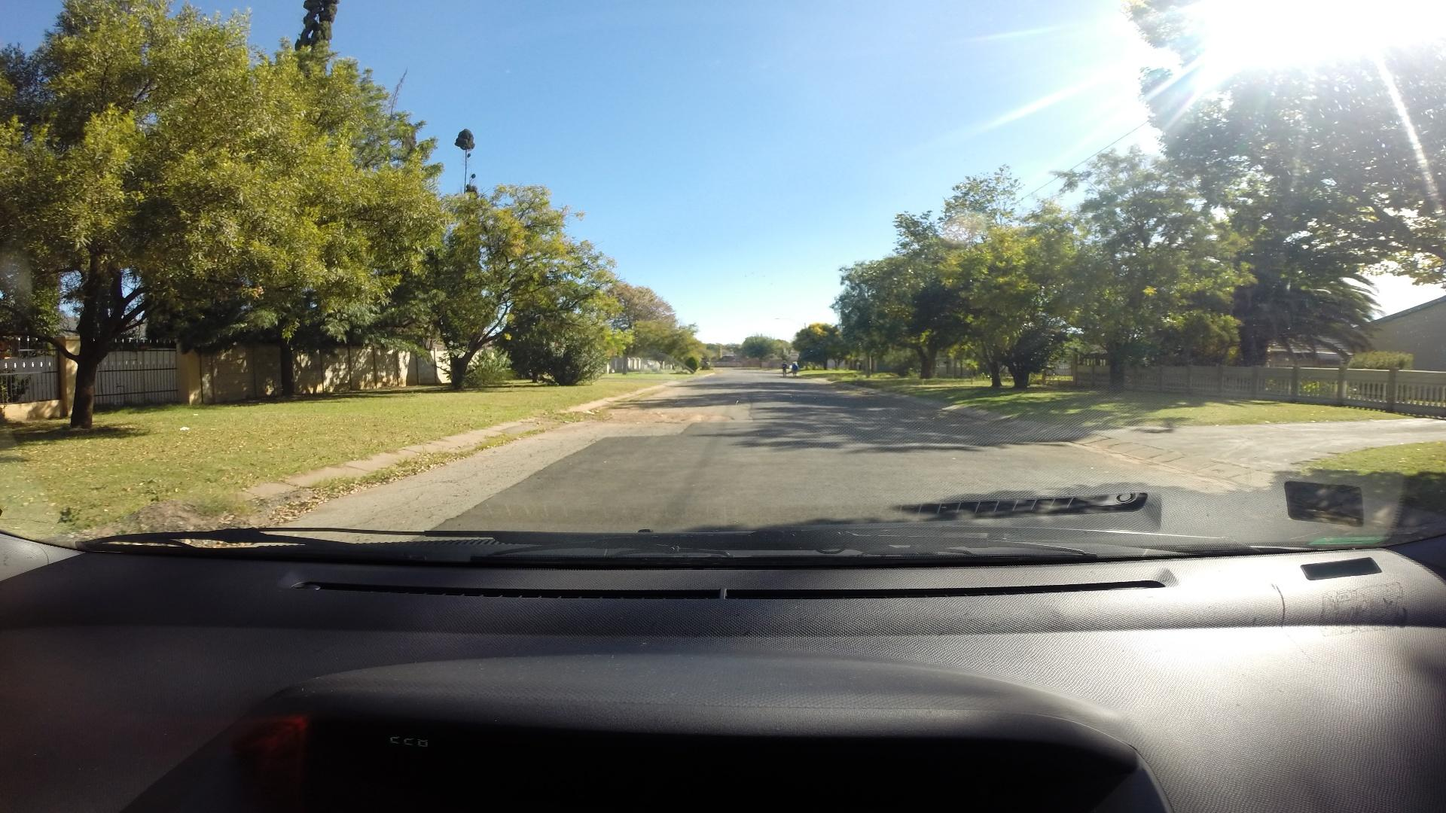pothole: (608, 404, 749, 422)
